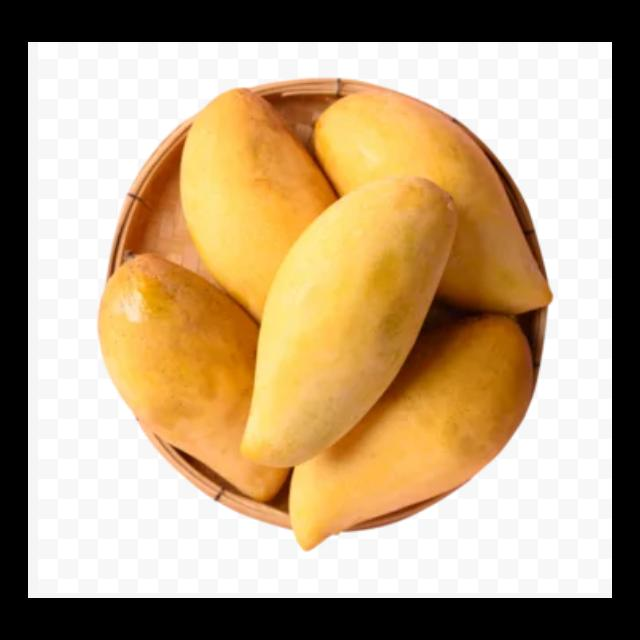mango: (235, 172, 454, 470)
